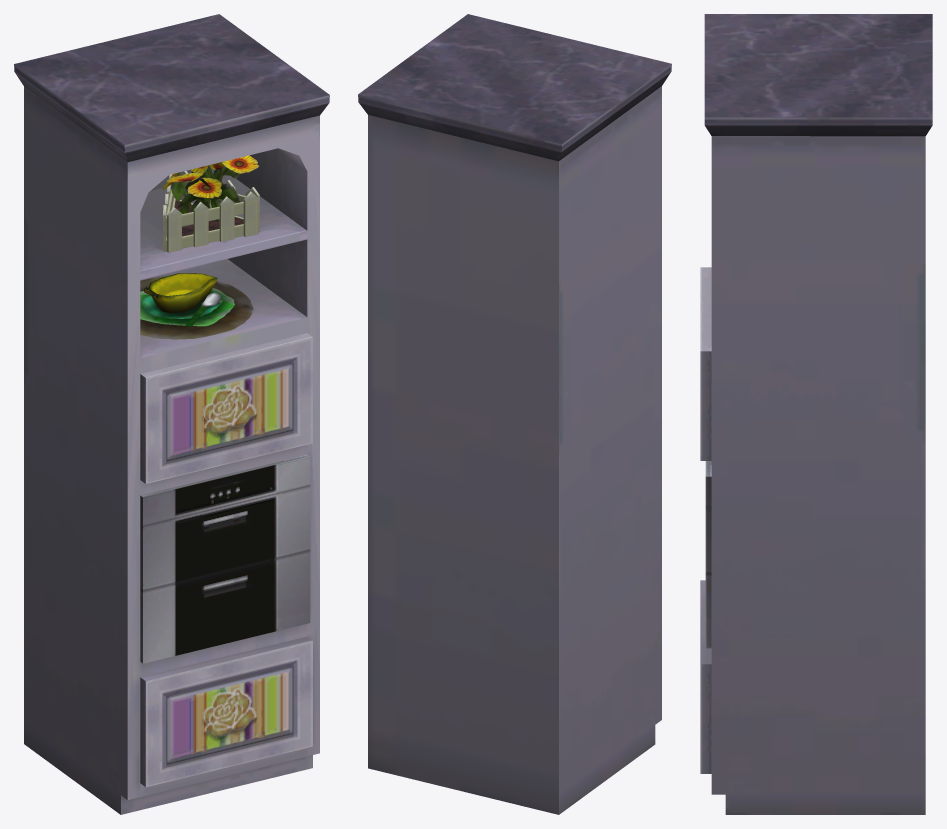
Rendered from furni_0200622_01.FBX.
The picture shows the model from 3 angles, left to right: view 1: azimuth 30°, elevation 25°; view 2: azimuth 150°, elevation 25°; view 3: azimuth 270°, elevation 25°; orthographic projection. The views are drawn at different scales.
Parts seen in each view (by area): view 1: furni_0200622_01; view 2: furni_0200622_01; view 3: furni_0200622_01.
Part boxes in pixels (x1,y1,x2,y2): furni_0200622_01: [14, 14, 329, 814]; furni_0200622_01: [358, 14, 671, 814]; furni_0200622_01: [700, 14, 932, 814].
Size of the model in its own units: 85.42 by 270 by 81.23.
1 material, 1 textured.
